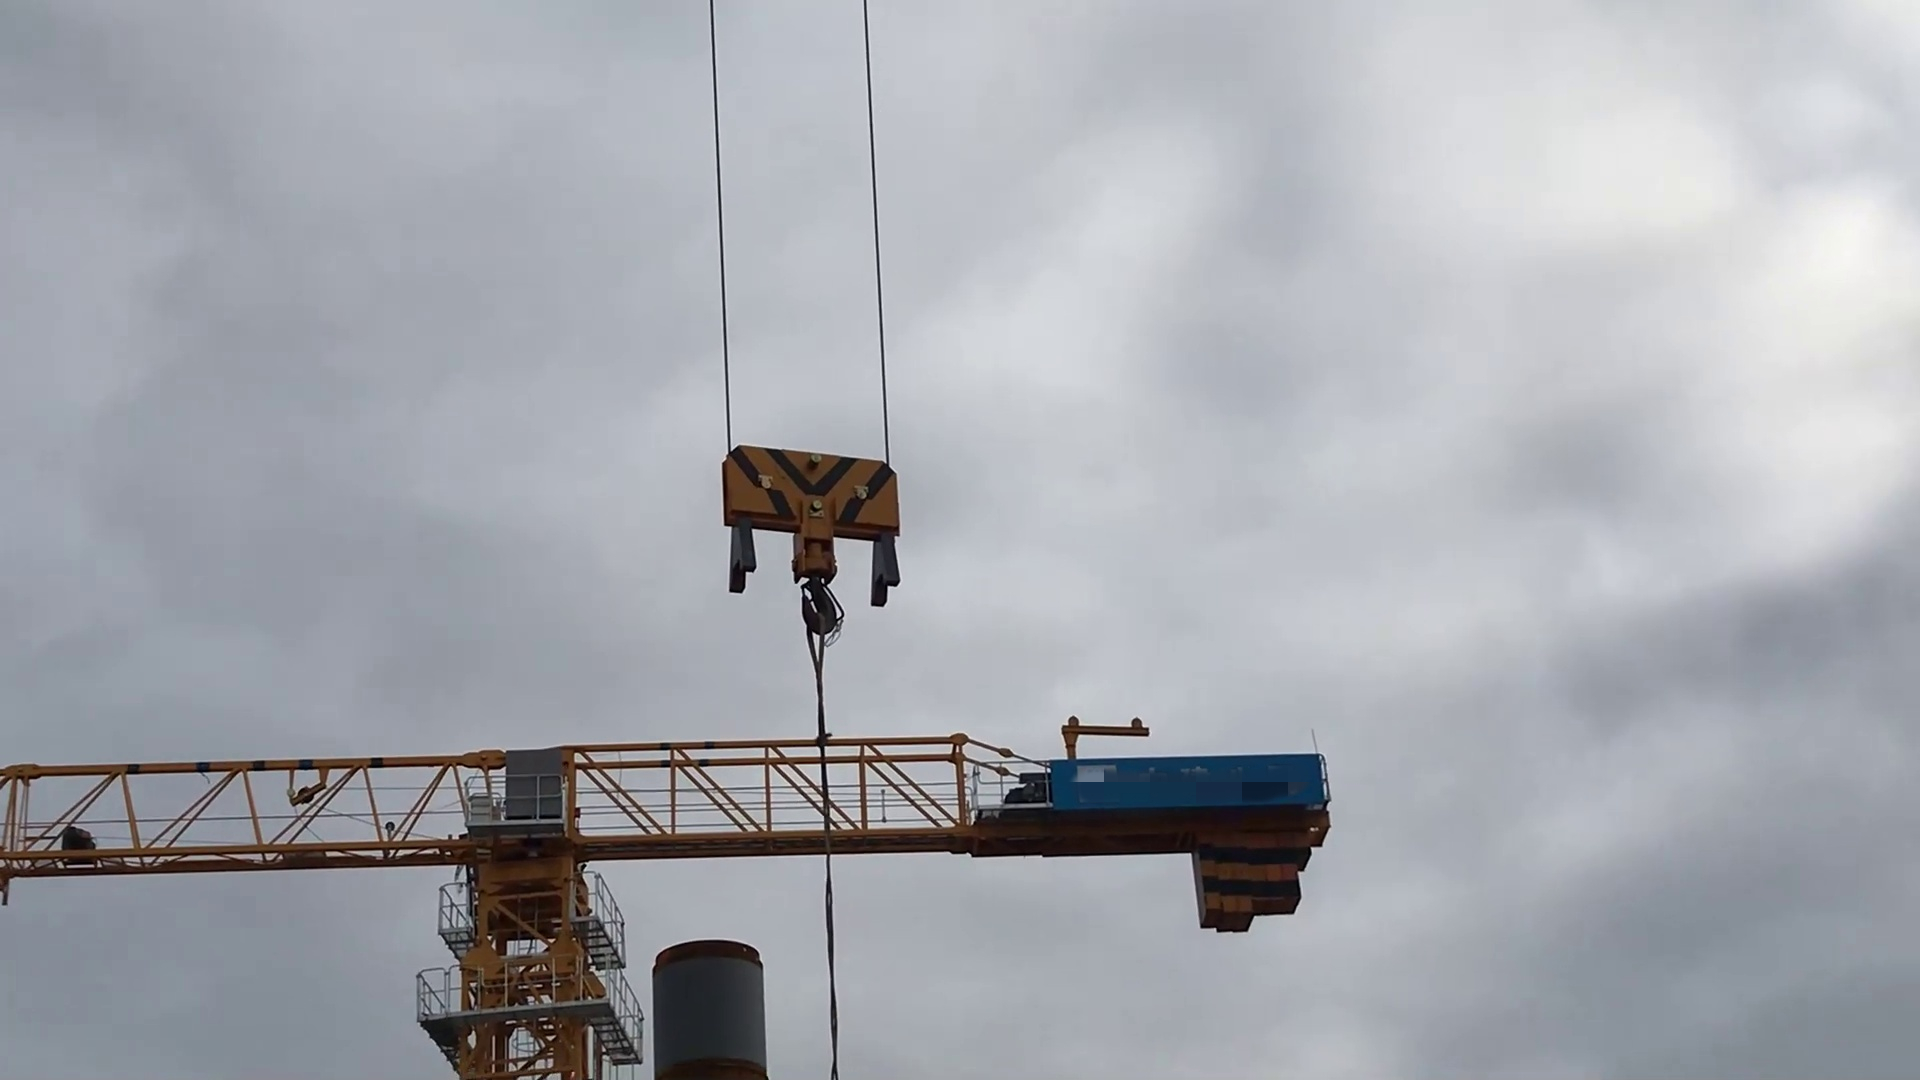hook: (713, 433, 913, 649)
